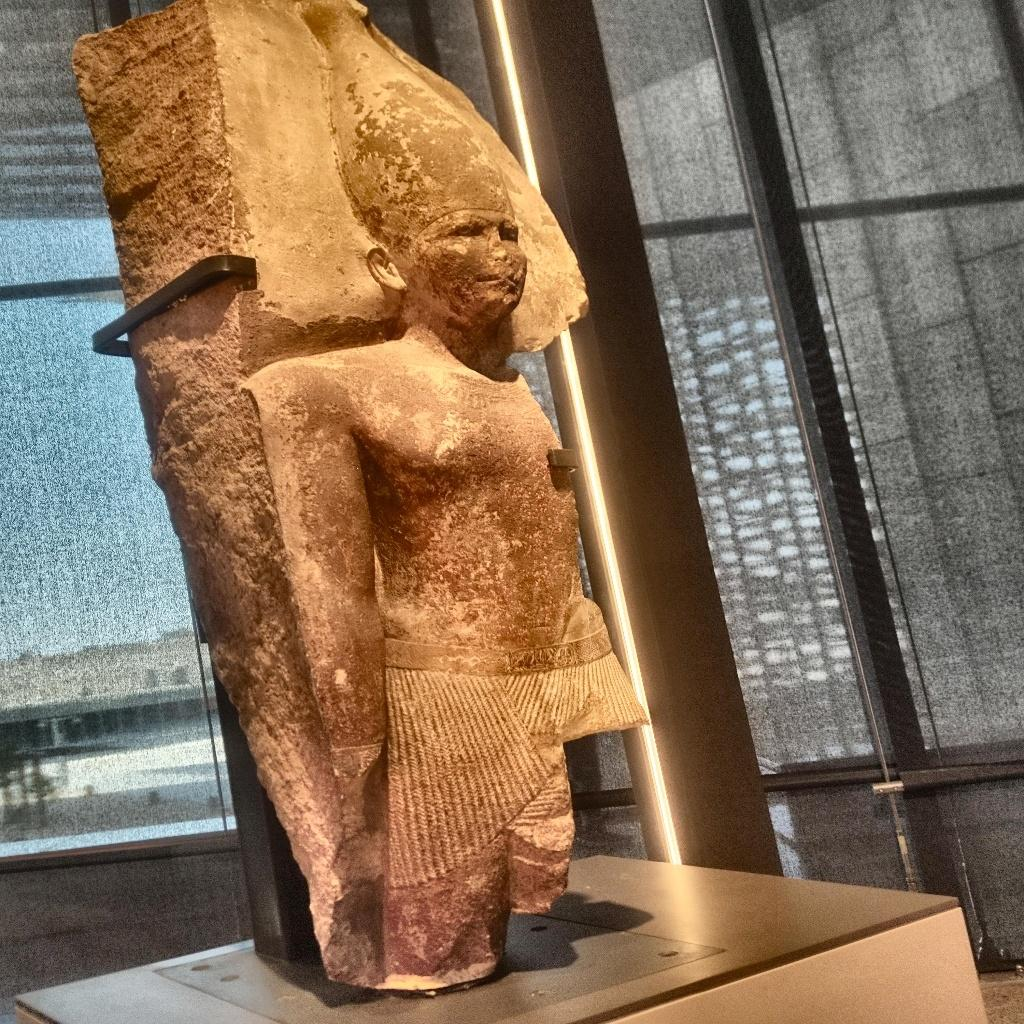Statue of Snefru: (69, 2, 658, 998)
